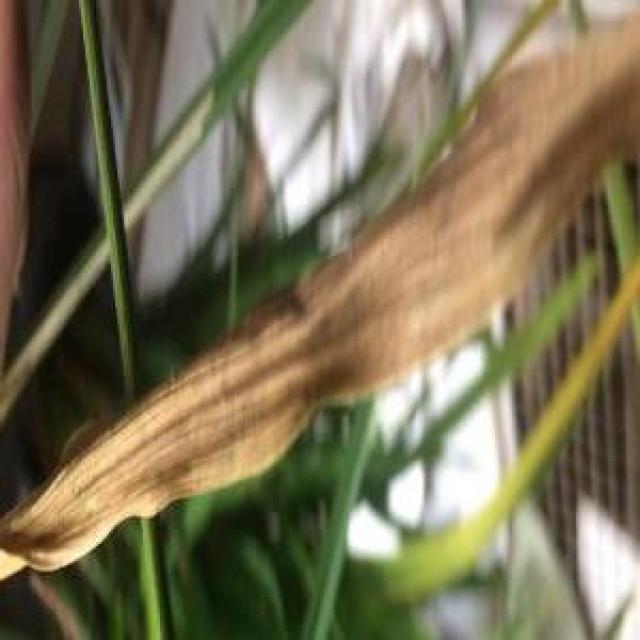Bacterial_Blight: (0, 0, 640, 588), (399, 256, 640, 587)
